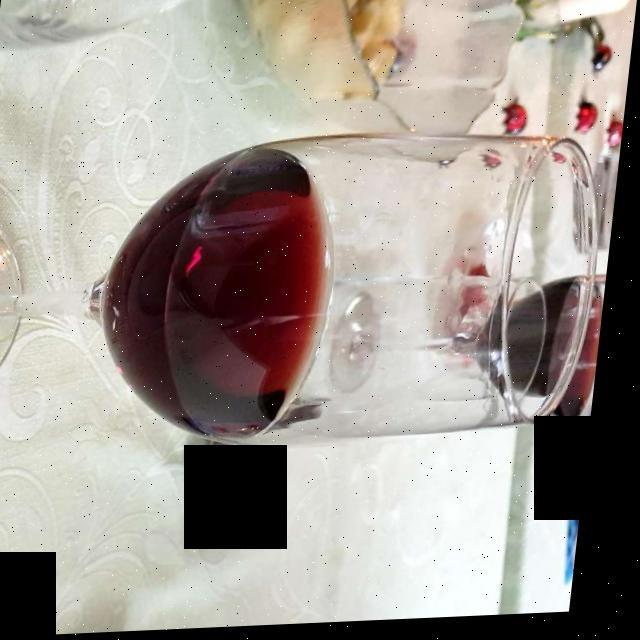wine: (106, 144, 328, 451)
